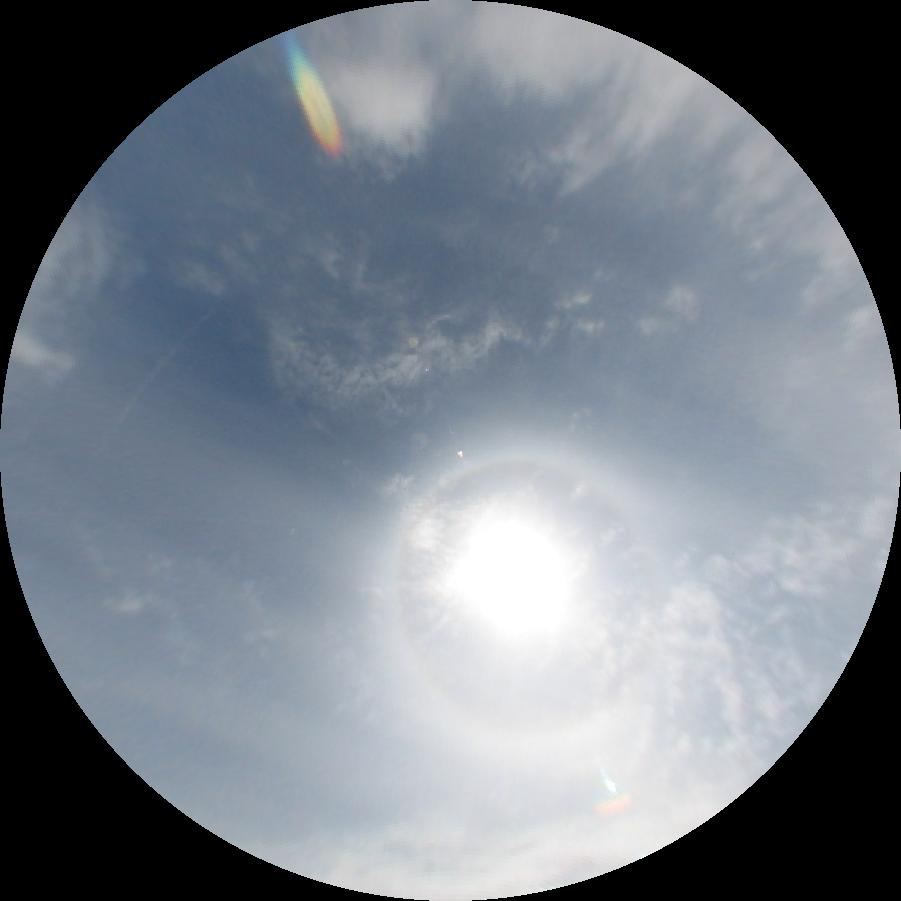contrail young: (100, 309, 219, 450)
sun: (449, 520, 567, 634)
